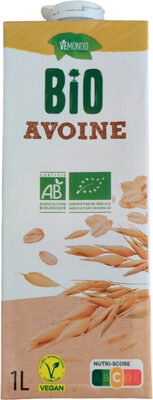Bio Hafer: (8, 20, 145, 380)
